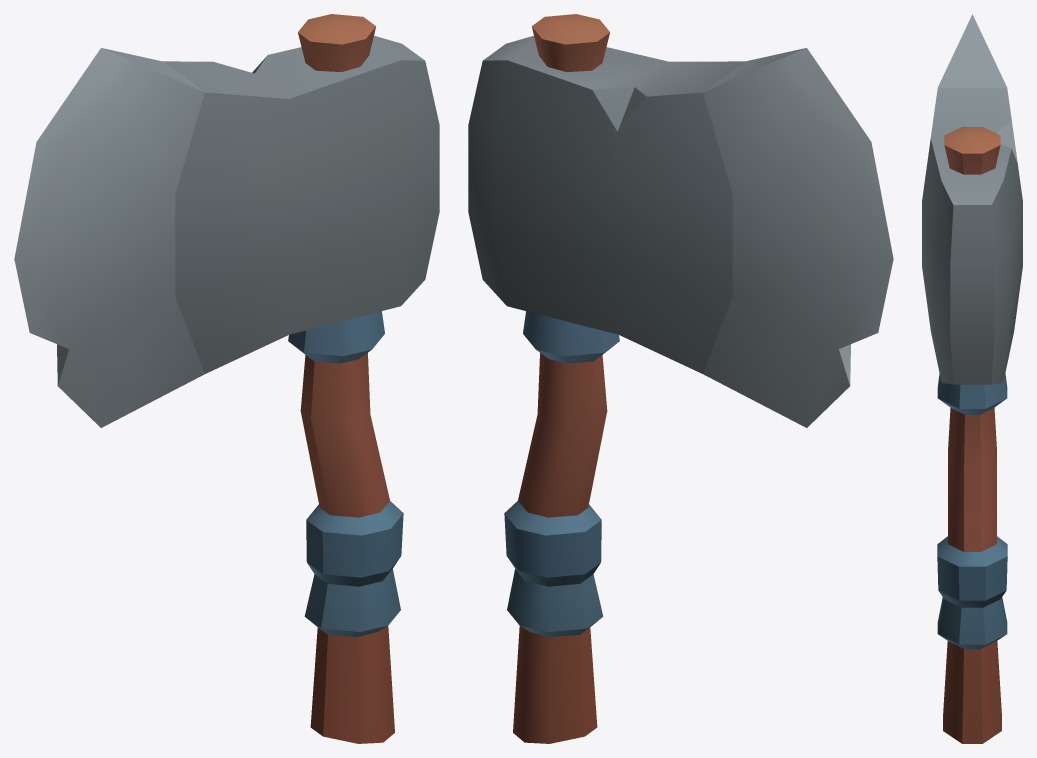
File: axe_1handed.glb
3 renders of one model, left to right at view 1: azimuth 30°, elevation 25°; view 2: azimuth 150°, elevation 25°; view 3: azimuth 270°, elevation 25°, orthographic. The views are drawn at different scales.
Parts seen in each view (by area): view 1: axe_1handed; view 2: axe_1handed; view 3: axe_1handed.
Part boxes in pixels (bbox=[...]): axe_1handed: bbox=[14, 14, 439, 743]; axe_1handed: bbox=[468, 14, 893, 743]; axe_1handed: bbox=[922, 14, 1022, 743].
Bounding box in the file's own units: 0.7143 × 1.24 × 0.185.
1 material, 1 textured.
